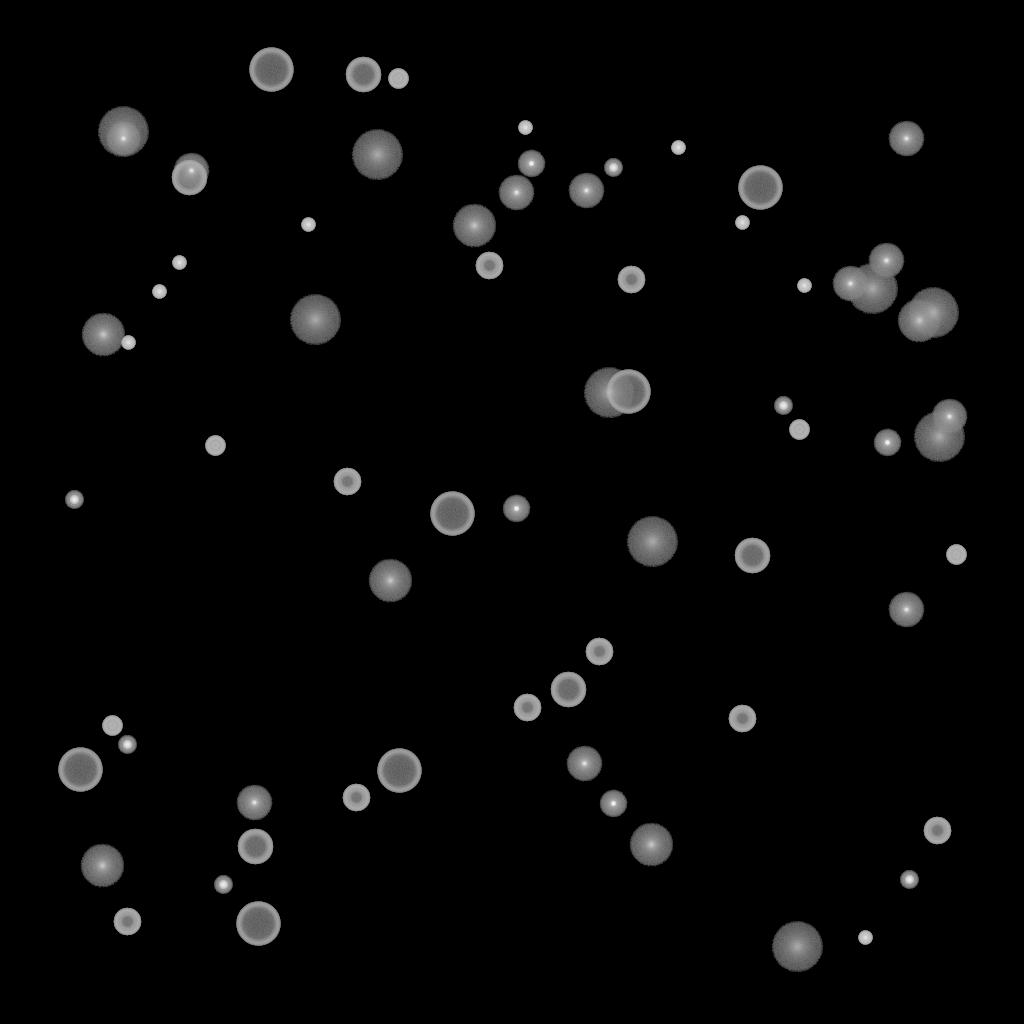depth:-10: (517, 150, 545, 178), (502, 495, 530, 523), (873, 429, 901, 457), (599, 790, 627, 818)
depth:-20: (774, 397, 792, 415), (214, 876, 232, 894), (900, 871, 918, 889), (65, 491, 83, 509), (604, 159, 622, 177), (118, 736, 136, 754)
depth:-30: (735, 216, 749, 230), (121, 336, 135, 350), (301, 218, 315, 232), (671, 141, 685, 155), (172, 256, 186, 270), (518, 121, 532, 135), (152, 285, 166, 299), (858, 931, 872, 945), (797, 279, 811, 293)
depth:-40: (946, 545, 966, 565), (102, 716, 122, 736), (388, 69, 408, 89), (205, 436, 225, 456), (789, 420, 809, 440)
depth:-50: (923, 817, 951, 845), (585, 638, 613, 666), (617, 266, 645, 294), (342, 784, 370, 812), (475, 252, 503, 280), (113, 908, 141, 936), (333, 468, 361, 496), (728, 705, 756, 733), (513, 694, 541, 722)
depth:-60: (171, 160, 207, 196), (345, 57, 381, 93), (237, 829, 273, 865), (734, 538, 770, 574), (550, 672, 586, 708)
depth:-70: (377, 749, 421, 793), (430, 492, 474, 536), (236, 902, 280, 946), (58, 748, 102, 792), (738, 166, 782, 210), (249, 48, 293, 92), (606, 370, 650, 414)
depth:0: (105, 121, 141, 157), (868, 243, 904, 279), (832, 266, 868, 302), (498, 175, 534, 211), (173, 153, 209, 189), (931, 399, 967, 435), (568, 173, 604, 209), (566, 746, 602, 782), (888, 121, 924, 157), (236, 785, 272, 821), (888, 592, 924, 628)
depth:10: (897, 299, 941, 343), (81, 313, 125, 357), (452, 204, 496, 248), (368, 559, 412, 603), (629, 823, 673, 867), (80, 844, 124, 888)
depth:20: (913, 412, 965, 462), (97, 107, 149, 157), (771, 922, 823, 972), (626, 517, 678, 567), (846, 264, 898, 314), (289, 295, 341, 345), (907, 288, 959, 338), (583, 368, 635, 418), (351, 130, 403, 180)
